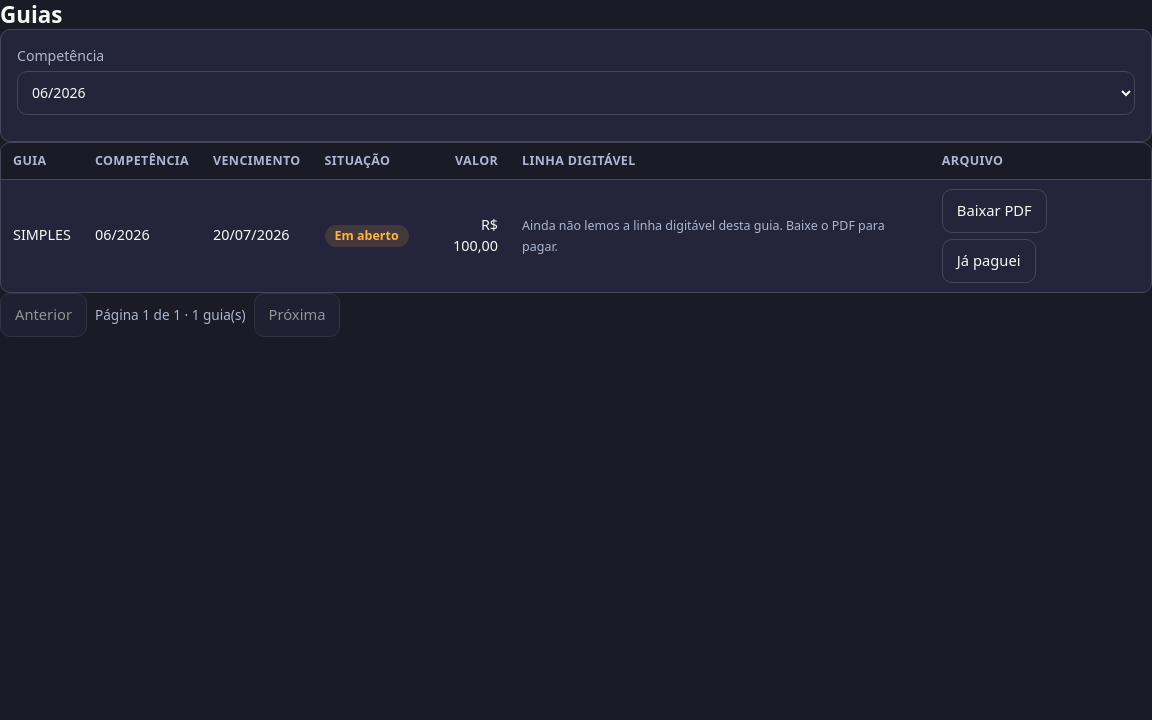
Test: retorno sem confirmação não anuncia baixa: {"ok":false}
Click the button "Já paguei" at (989, 261), box [942,239,1036,283]
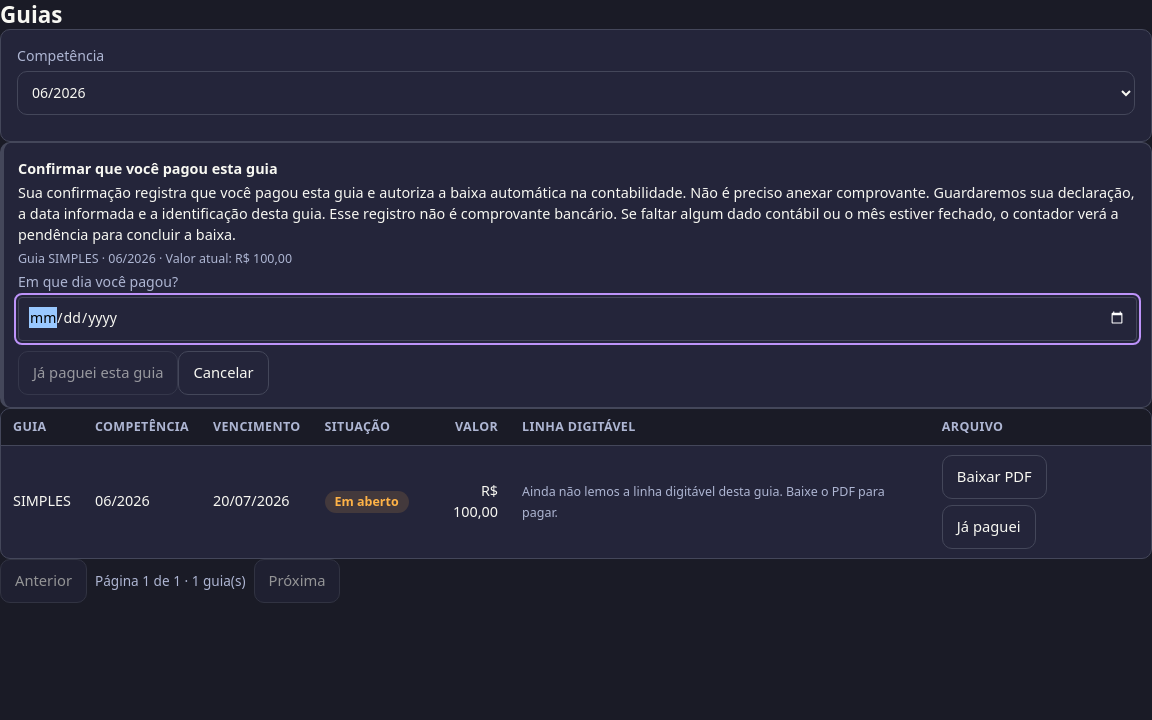
Type "2026-07-14" into the date field labelled "Em que dia você pagou?" at (578, 318), box [18,296,1137,340]
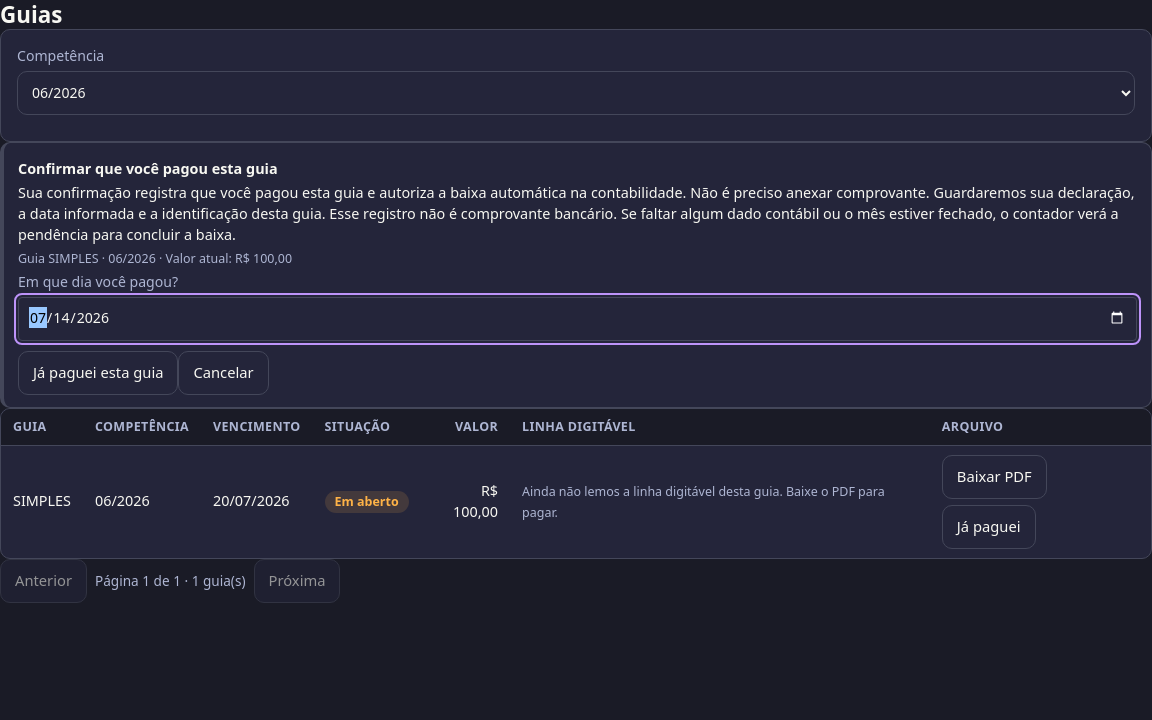
Click the button "Já paguei esta guia" at (98, 372), box [18,350,178,394]
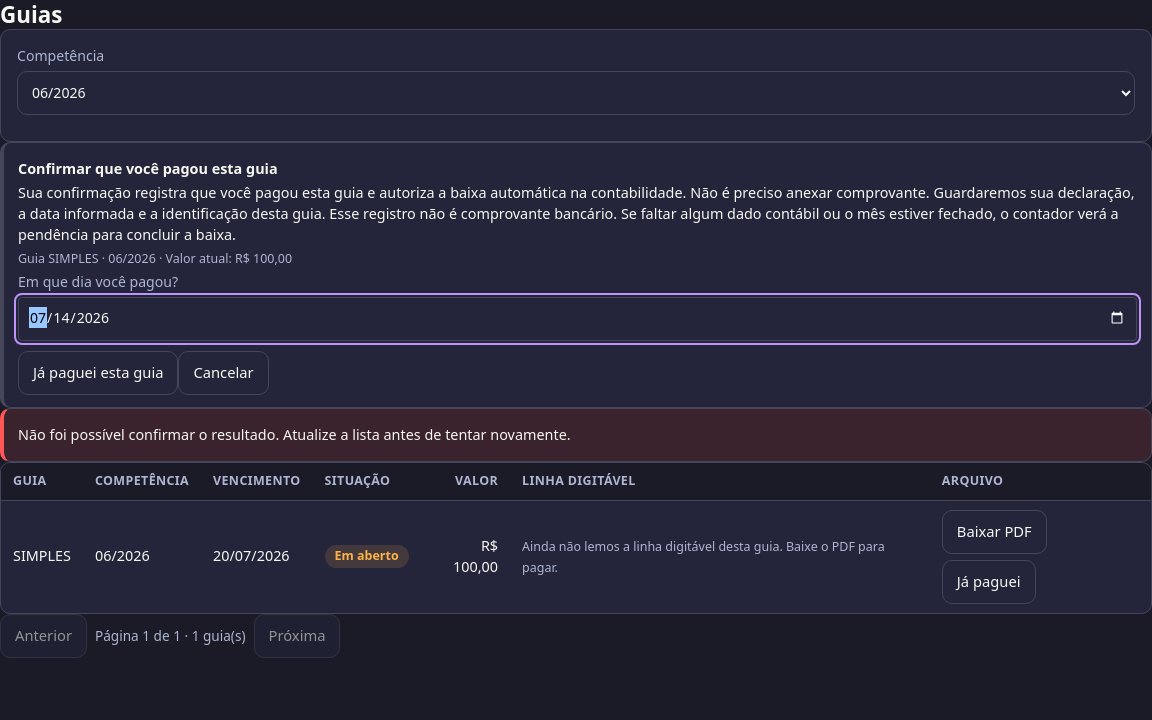
Expected: the button "Já paguei esta guia" is shown, [18,350,178,394]
Expected: the text "Não foi possível confirmar o resultado" is shown, [18,424,571,444]
